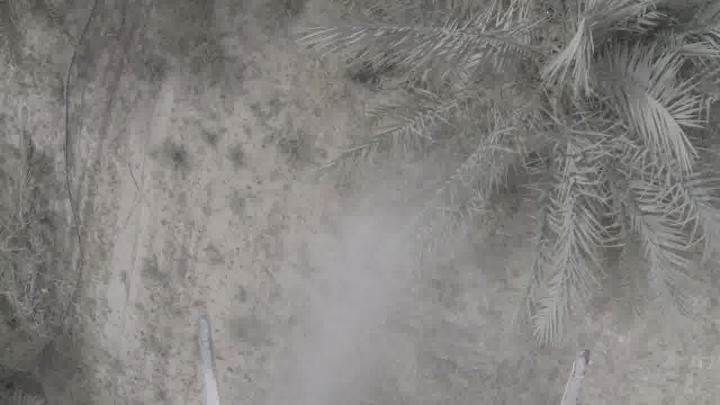Date-Palm-Crown: (456, 0, 720, 223)
